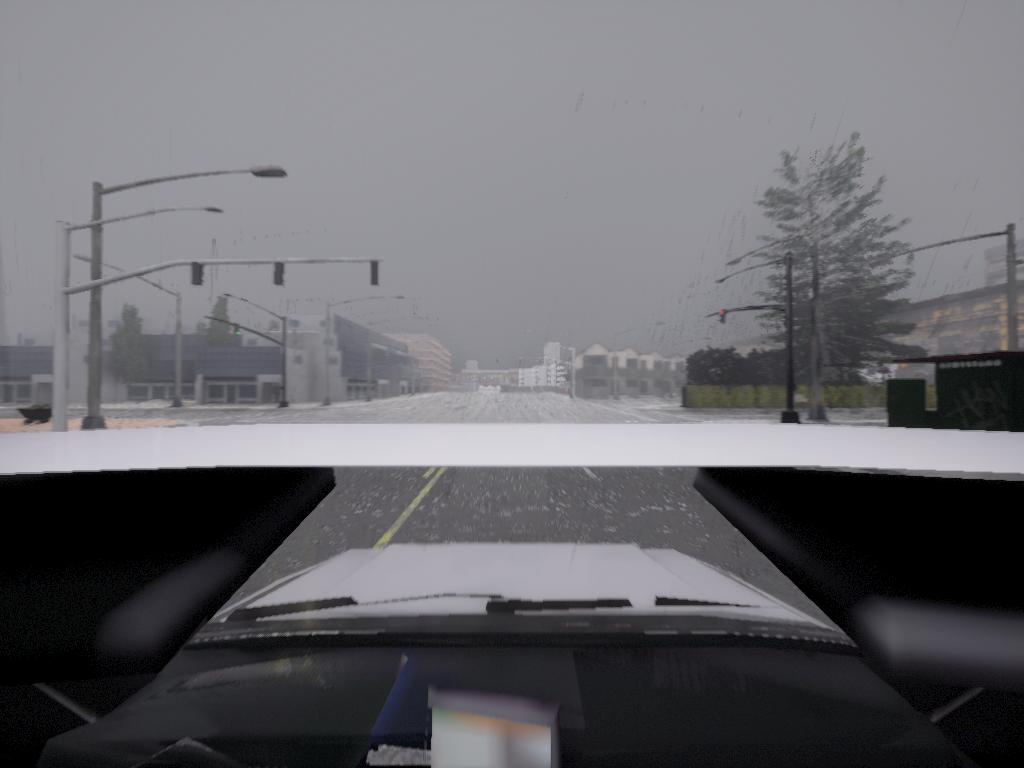traffic_light: (191, 263, 205, 289), (370, 260, 381, 288), (274, 263, 285, 288), (720, 309, 728, 327), (519, 357, 523, 366), (540, 357, 543, 366), (497, 359, 500, 365)
